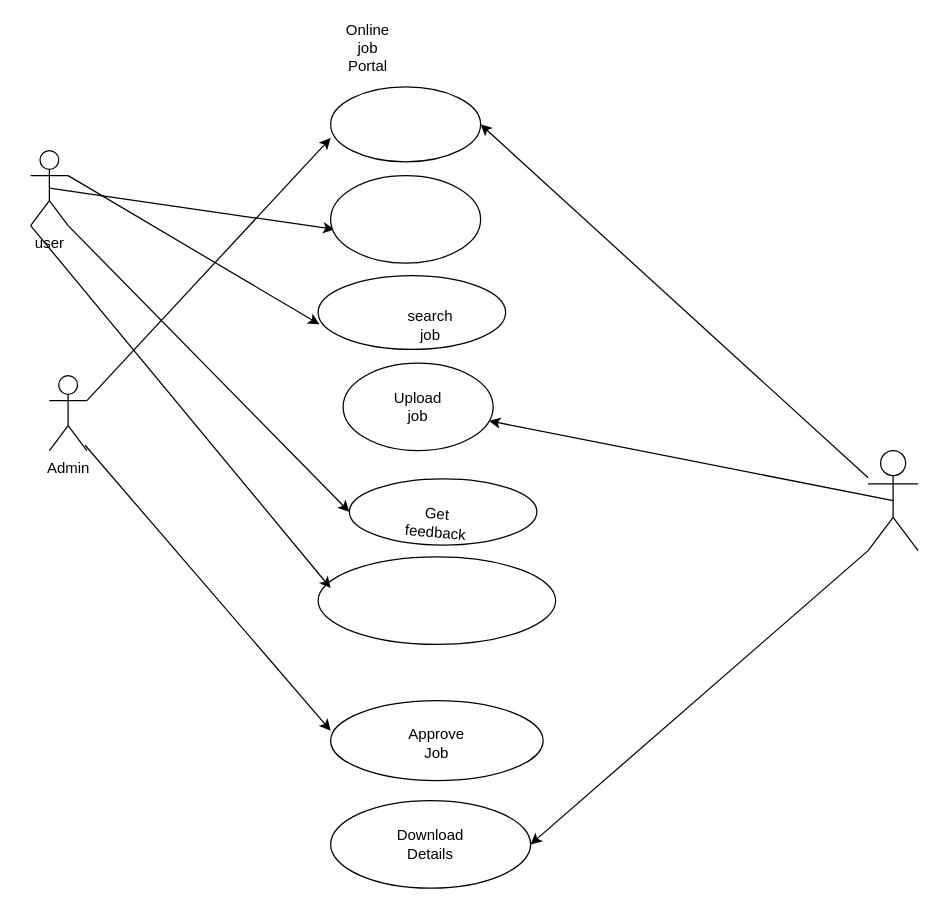
The diagram is 946 pixels wide and 910 high, and some of its shapes have lost their labels. Each missing label, with the box of its shape:
Apply jobs: (317, 556, 556, 644)
Company: (867, 449, 918, 551)
login: (329, 86, 481, 162)
Register: (329, 174, 481, 263)
